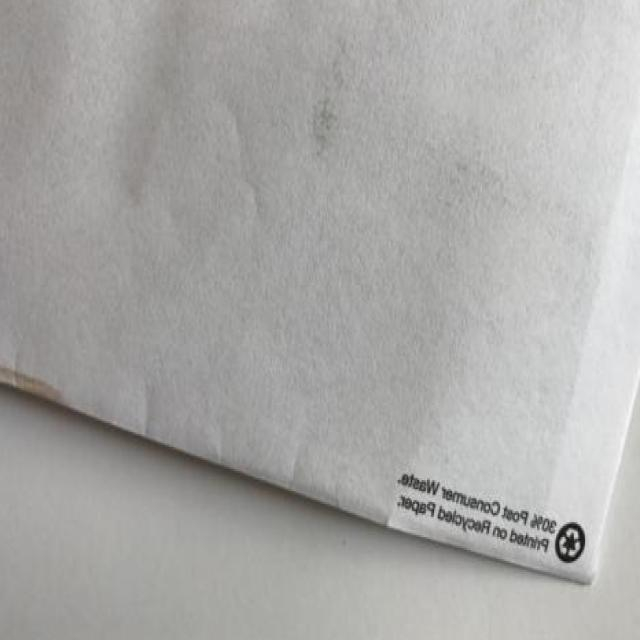kertas: (0, 0, 640, 587)
